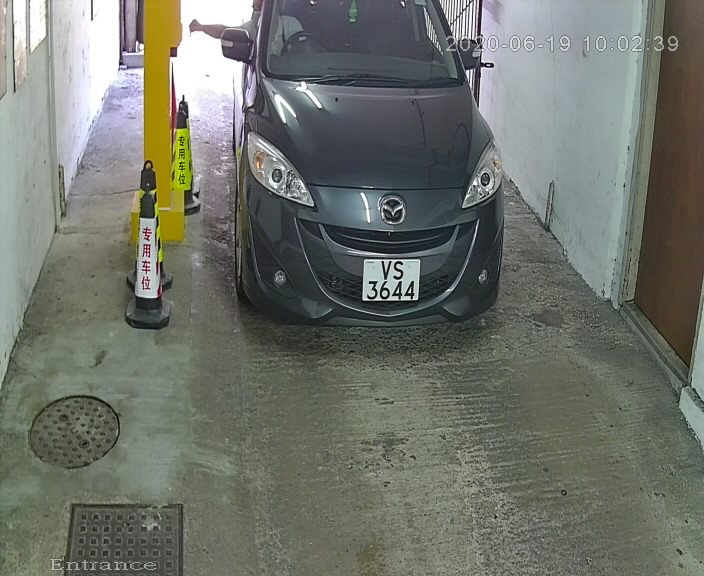privatecar: (208, 1, 520, 364)
